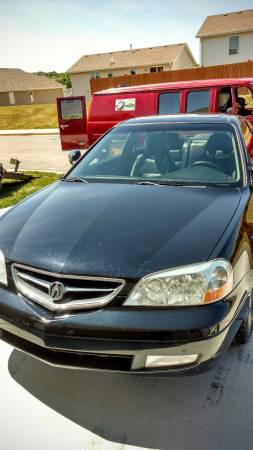acura: (1, 112, 253, 387)
